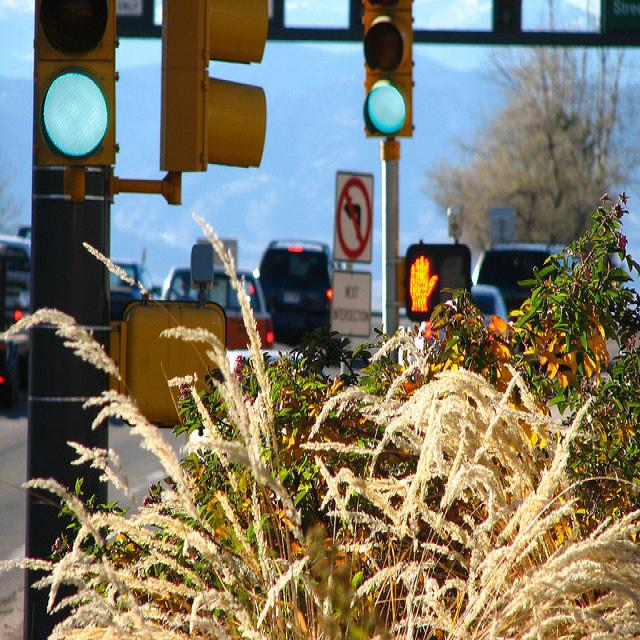Vehicle: (158, 265, 276, 350), (262, 242, 334, 354), (0, 234, 34, 419), (474, 245, 566, 311), (472, 244, 551, 310), (110, 257, 154, 323), (472, 282, 514, 322)
